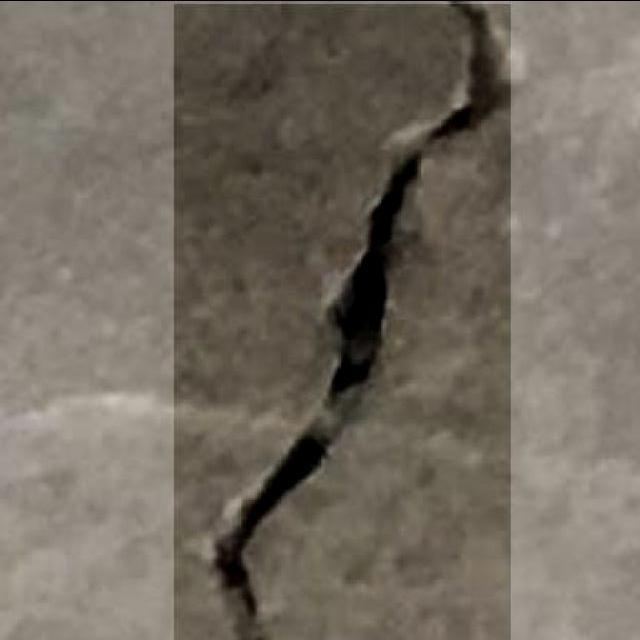SurfaceCrack: (182, 0, 508, 640)
